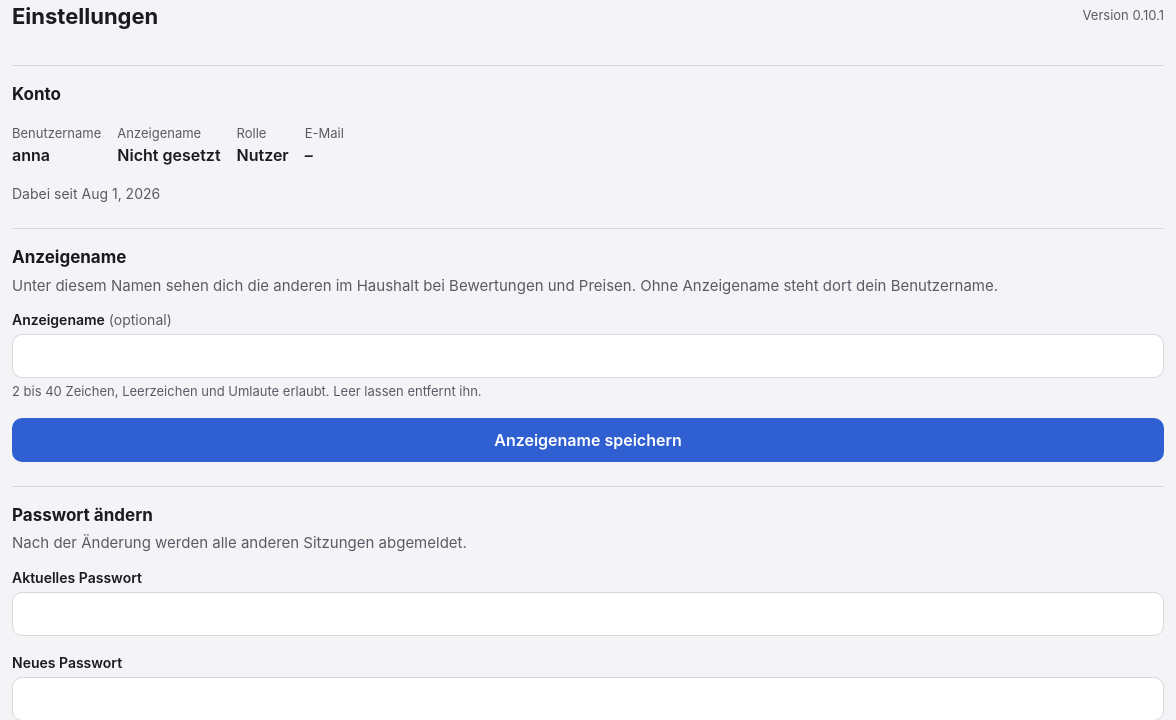
Test: SettingsPage › blames the current password rather than the session on a 401
This screenshot has width=1176, height=720.
Step 1. Type "falsch" into the password field labelled "Aktuelles Passwort" → (588, 614), box [12,592,1164,636]
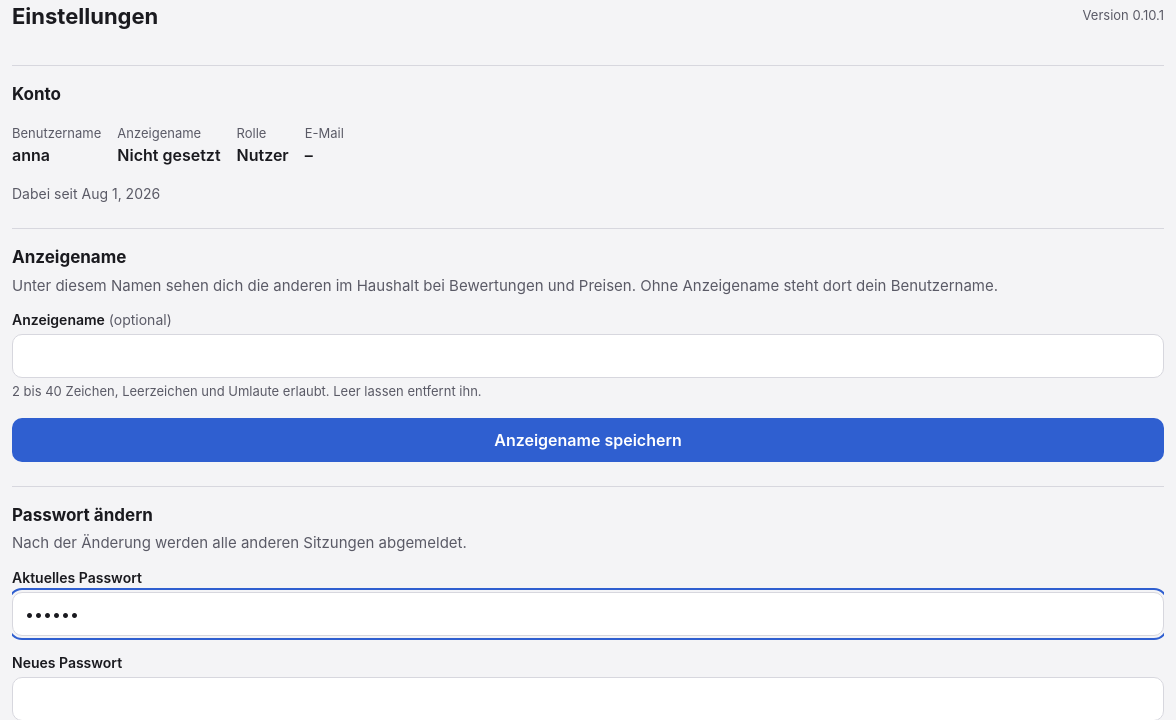
Step 2. Type "ein-neues-passwort" into the password field labelled "Neues Passwort" → (588, 698), box [12,676,1164,719]
(page scrolled)
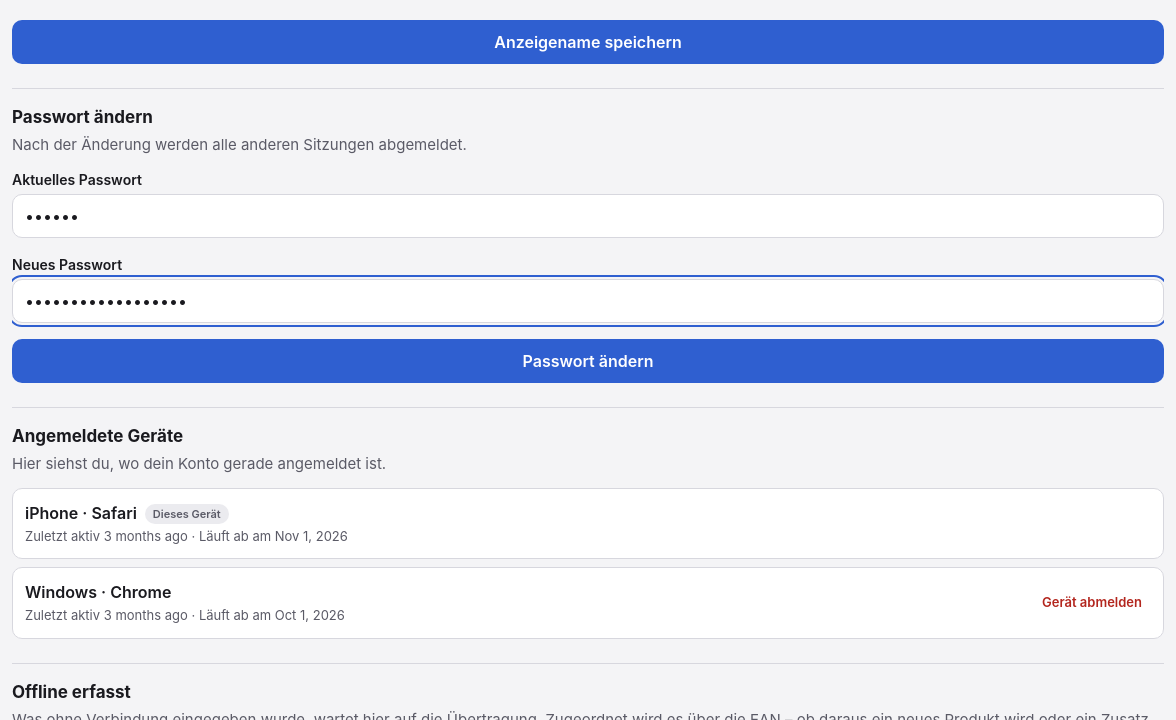
Step 3. Click the button "Passwort ändern" → click(588, 360), box [12,338,1164,382]
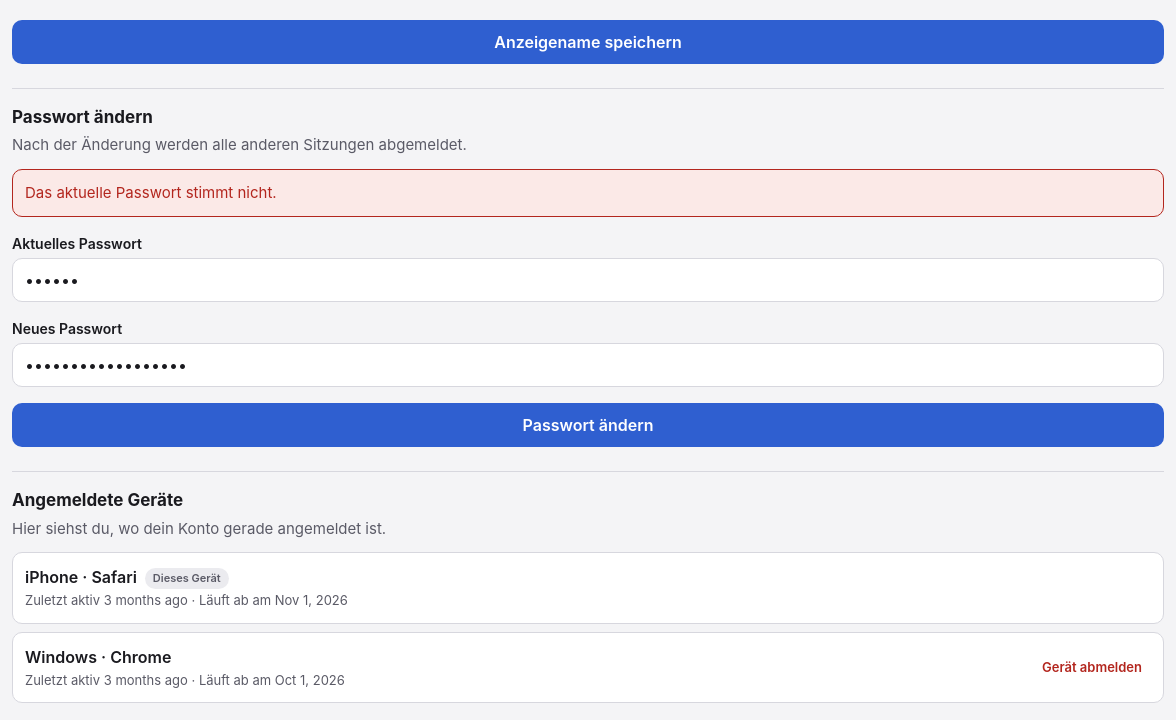
Expected: the text "Das aktuelle Passwort stimmt nicht." is shown, [25,182,277,202]
